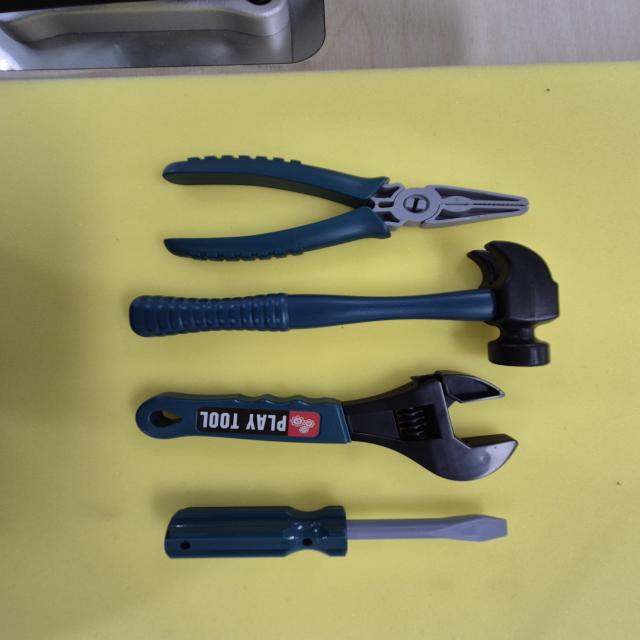hammer: (118, 239, 589, 372)
pliers: (132, 140, 538, 262)
screwdriver: (135, 481, 522, 572)
wrench: (111, 353, 530, 490)
